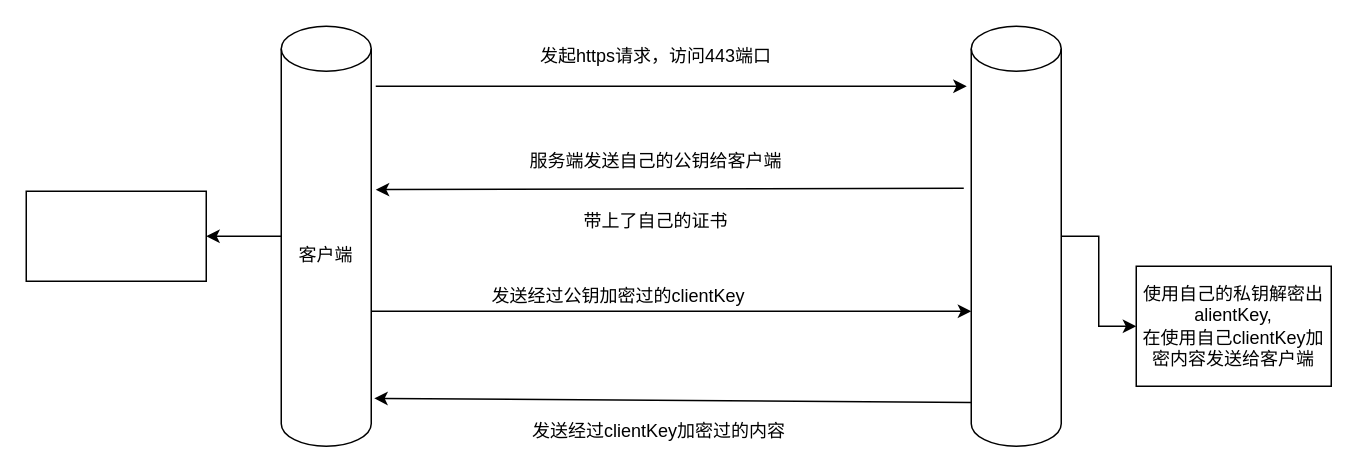
Image size: 1358x473. Some labels were removed from this diagram. Each missing label, with the box of its shape:
服务端: (970, 25, 1061, 446)
验证客户端的证书，验证成功后使用对称加密生成密钥clientKey: (25, 190, 206, 281)
